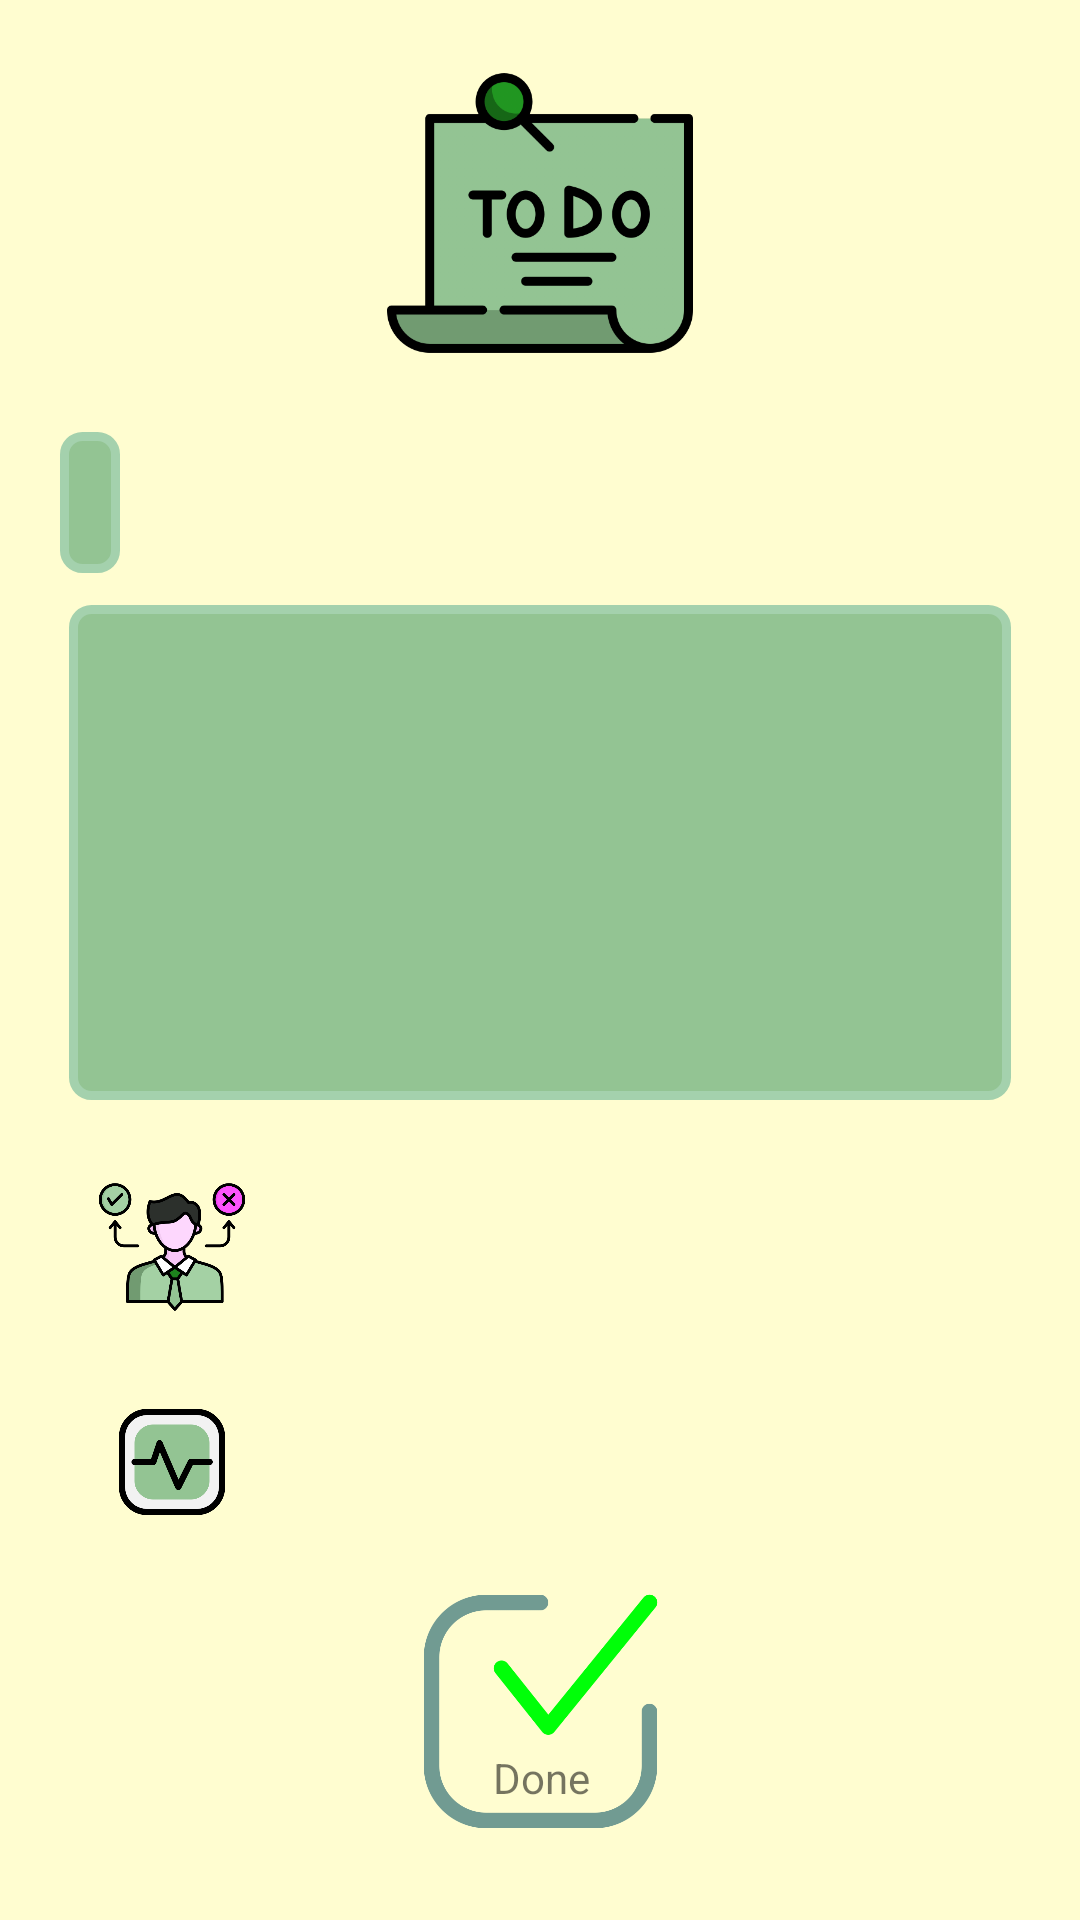

Icons on this 1080px x 1920px Android screen, each with the point to tap as (x,y):
check: (541,1711)
decision making: (172,1247)
status: (172,1462)
